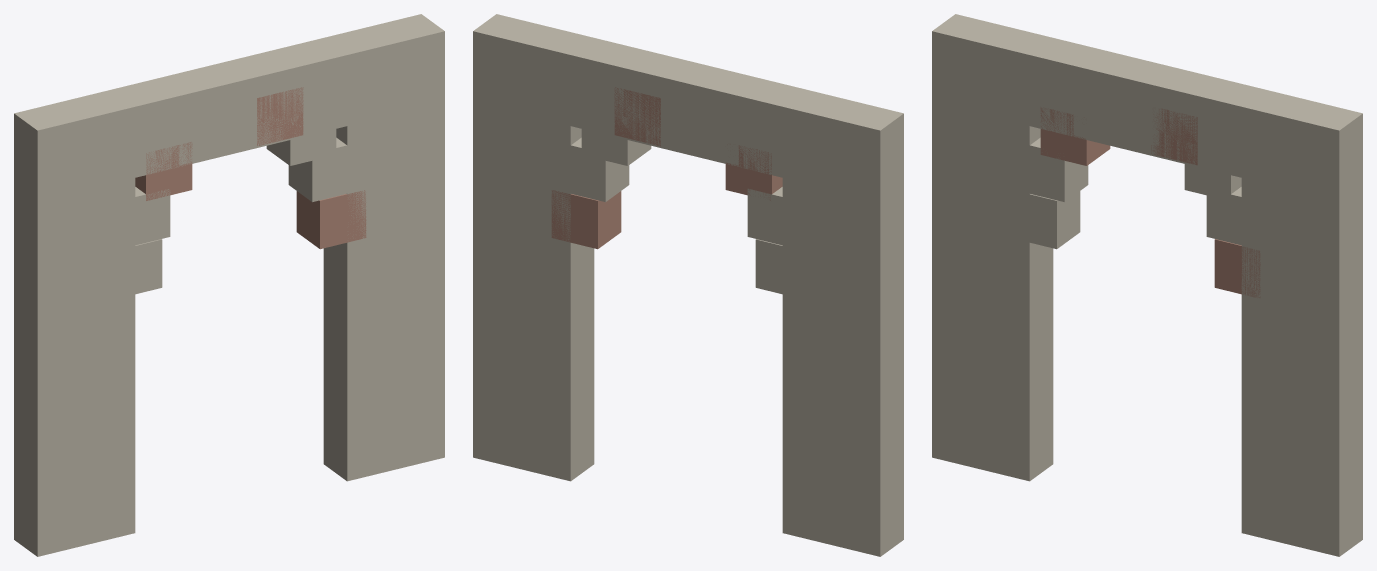
File: iz3_neighborhood_kemer_dar.glb
3 views of the same model, side by side, from view 1: azimuth 30°, elevation 25°; view 2: azimuth 150°, elevation 25°; view 3: azimuth 330°, elevation 25° (orthographic).
Visible parts, largest first — view 1: pier_l, pier_r, spandrel, voussoir_00, voussoir_01, voussoir_06, voussoir_03, voussoir_02, voussoir_07, voussoir_08, voussoir_04, voussoir_05; view 2: pier_l, pier_r, spandrel, voussoir_00, voussoir_01, voussoir_07, voussoir_02, voussoir_03, voussoir_08, voussoir_04, voussoir_06, voussoir_05; view 3: pier_r, pier_l, spandrel, voussoir_08, voussoir_07, voussoir_01, voussoir_04, voussoir_00, voussoir_06, voussoir_05, voussoir_02, voussoir_03.
Boxes of the visible parts, x1,y1,x2,y2 form: pier_l: (14,89,135,556); pier_r: (323,14,444,481); spandrel: (106,36,352,177); voussoir_00: (296,190,366,249); voussoir_01: (288,137,358,202); voussoir_06: (135,142,192,200); voussoir_03: (257,87,303,145); voussoir_02: (266,107,336,165); voussoir_07: (124,187,170,247); voussoir_08: (116,239,162,297); voussoir_04: (218,88,263,145); voussoir_05: (179,110,223,165); pier_l: (782,89,903,556); pier_r: (473,14,594,481); spandrel: (564,36,810,177); voussoir_00: (551,190,621,249); voussoir_01: (559,137,629,202); voussoir_07: (747,187,793,247); voussoir_02: (581,107,651,165); voussoir_03: (614,87,660,146); voussoir_08: (755,239,801,297); voussoir_04: (653,87,699,145); voussoir_06: (725,144,782,200); voussoir_05: (692,108,738,165); pier_r: (1241,89,1362,556); pier_l: (932,14,1053,481); spandrel: (1023,36,1270,177); voussoir_08: (1010,190,1080,249); voussoir_07: (1018,137,1088,202); voussoir_01: (1206,187,1252,247); voussoir_04: (1112,87,1158,145); voussoir_00: (1214,239,1260,297); voussoir_06: (1040,107,1110,165); voussoir_05: (1073,87,1119,146); voussoir_02: (1184,143,1241,195); voussoir_03: (1151,108,1197,165).
Size of the model in its own units: 3 by 3 by 0.3.
